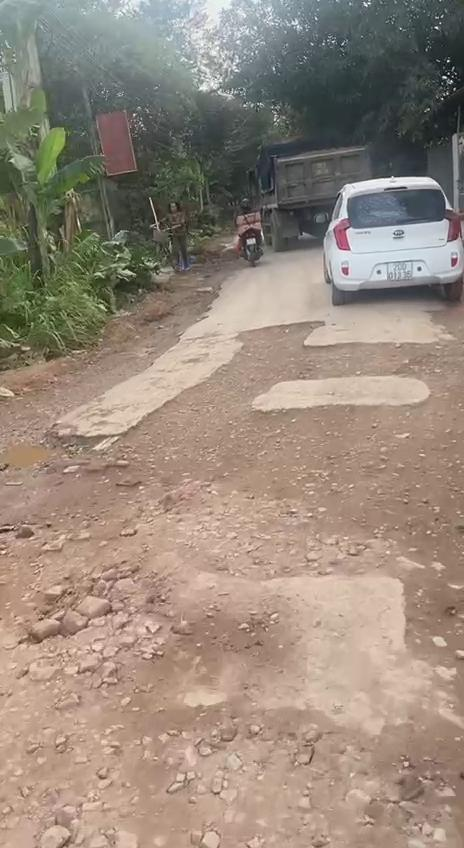pothole: (0, 506, 464, 848), (99, 316, 464, 590), (0, 433, 97, 478)
